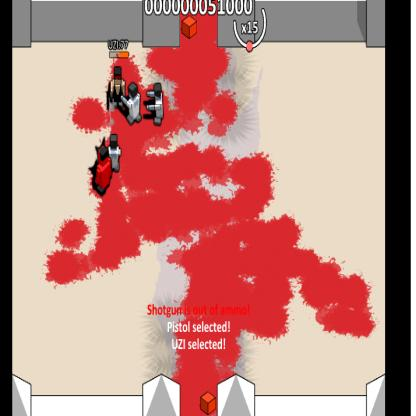agent: (110, 66, 126, 106)
boss: (96, 147, 112, 194)
jombie: (150, 83, 165, 126), (127, 82, 141, 125), (107, 134, 121, 171)
